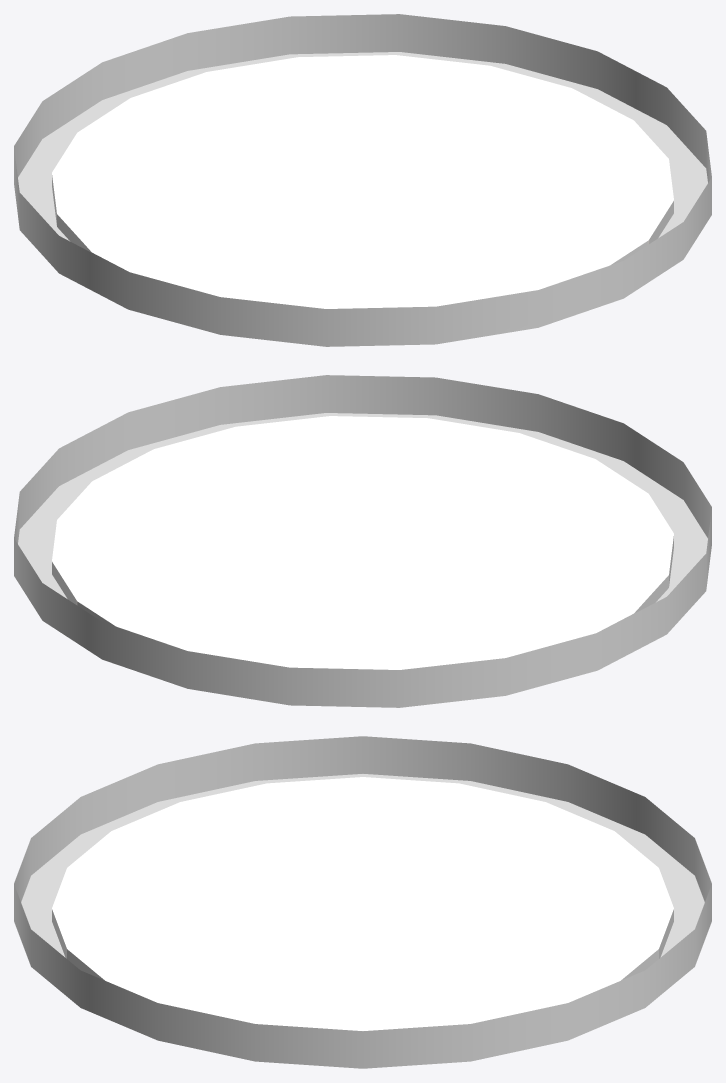
File: lights.fbx
3 renders of one model, top to bottom at view 1: azimuth 30°, elevation 25°; view 2: azimuth 150°, elevation 25°; view 3: azimuth 270°, elevation 25°, orthographic.
Parts seen in each view (by area): view 1: emission, frame; view 2: emission, frame; view 3: emission, frame.
Boxes of the visible parts, x1,y1,x2,y2 form: emission: (52, 55, 673, 308); frame: (14, 14, 711, 346); emission: (52, 416, 673, 669); frame: (14, 375, 711, 707); emission: (52, 777, 673, 1030); frame: (14, 736, 711, 1068).
Bounding box in the file's own units: 63.57 × 3.78 × 63.57.
1 material, 1 textured.
